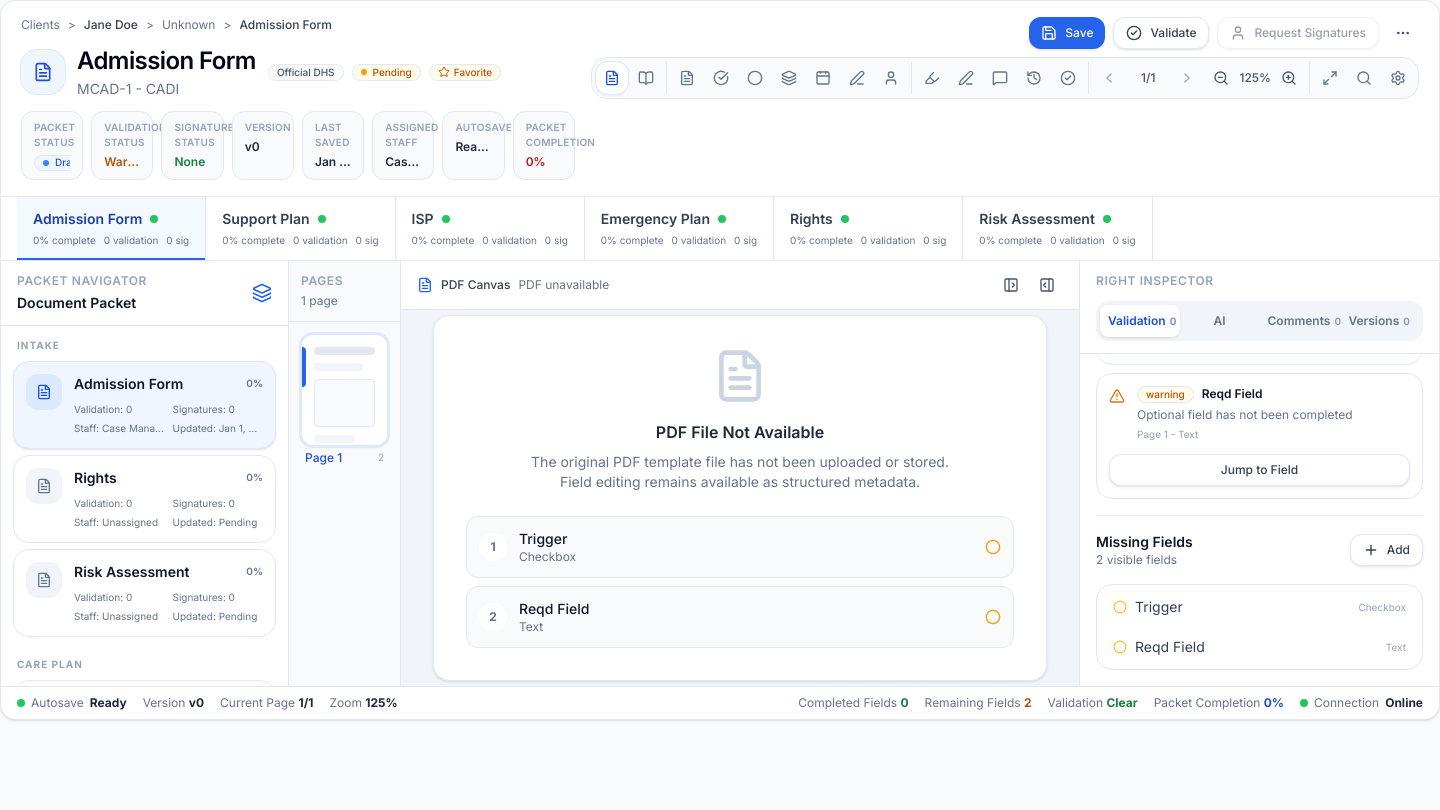
Test case: PDFEditorClient — 4c.3c.2: real-time visibility and requiredness › updates the required marker immediately when evaluation reports a conditionally-required transition
(page scrolled)
Expected: the text "Trigger" below "PDF File Not Available" is shown, [519, 530, 567, 547]
Click the text "Trigger" below "visible field" at x=1159, y=606, box [1135, 598, 1183, 615]
(page scrolled)
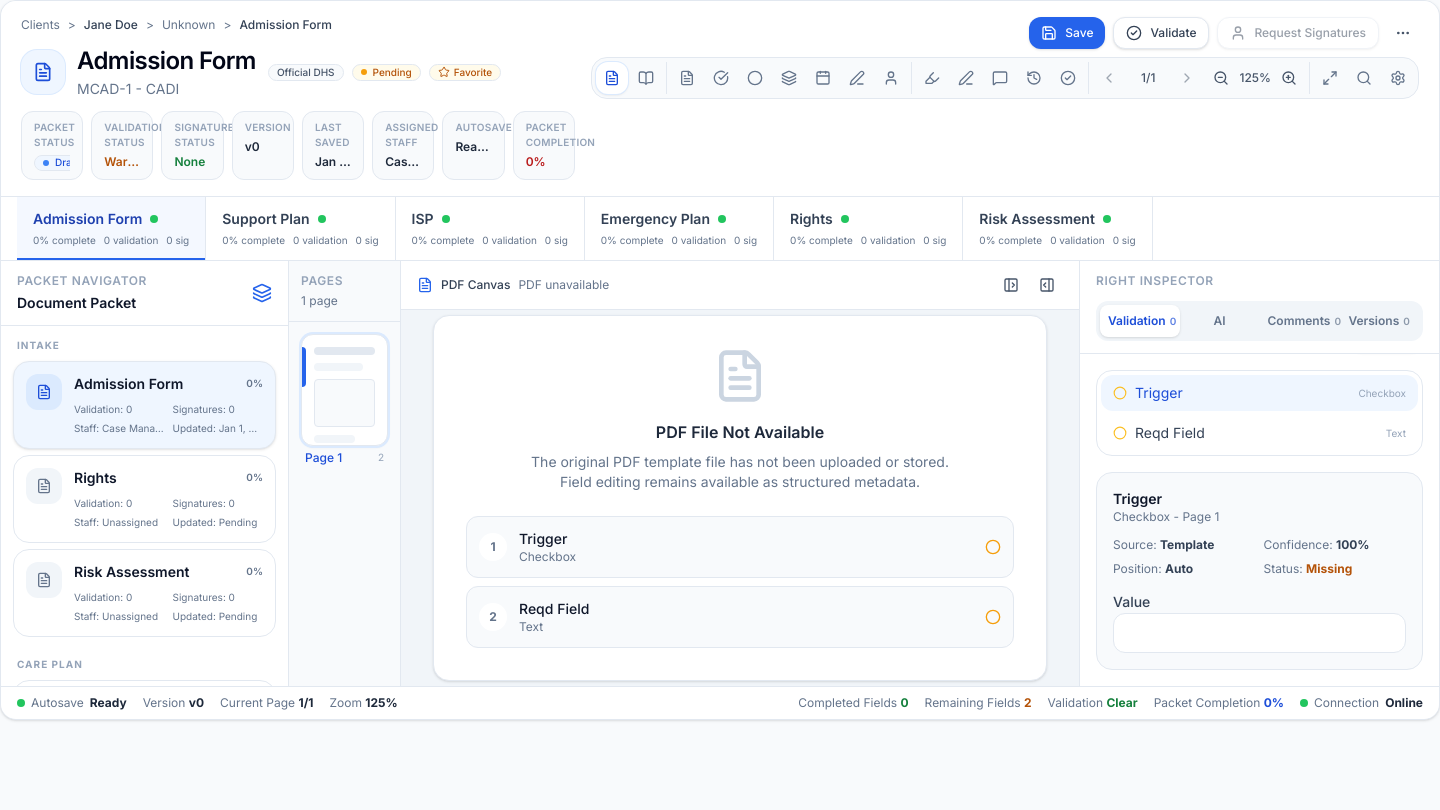
Type "true" into the field labelled "Value" at x=1260, y=633, box [1113, 613, 1406, 653]
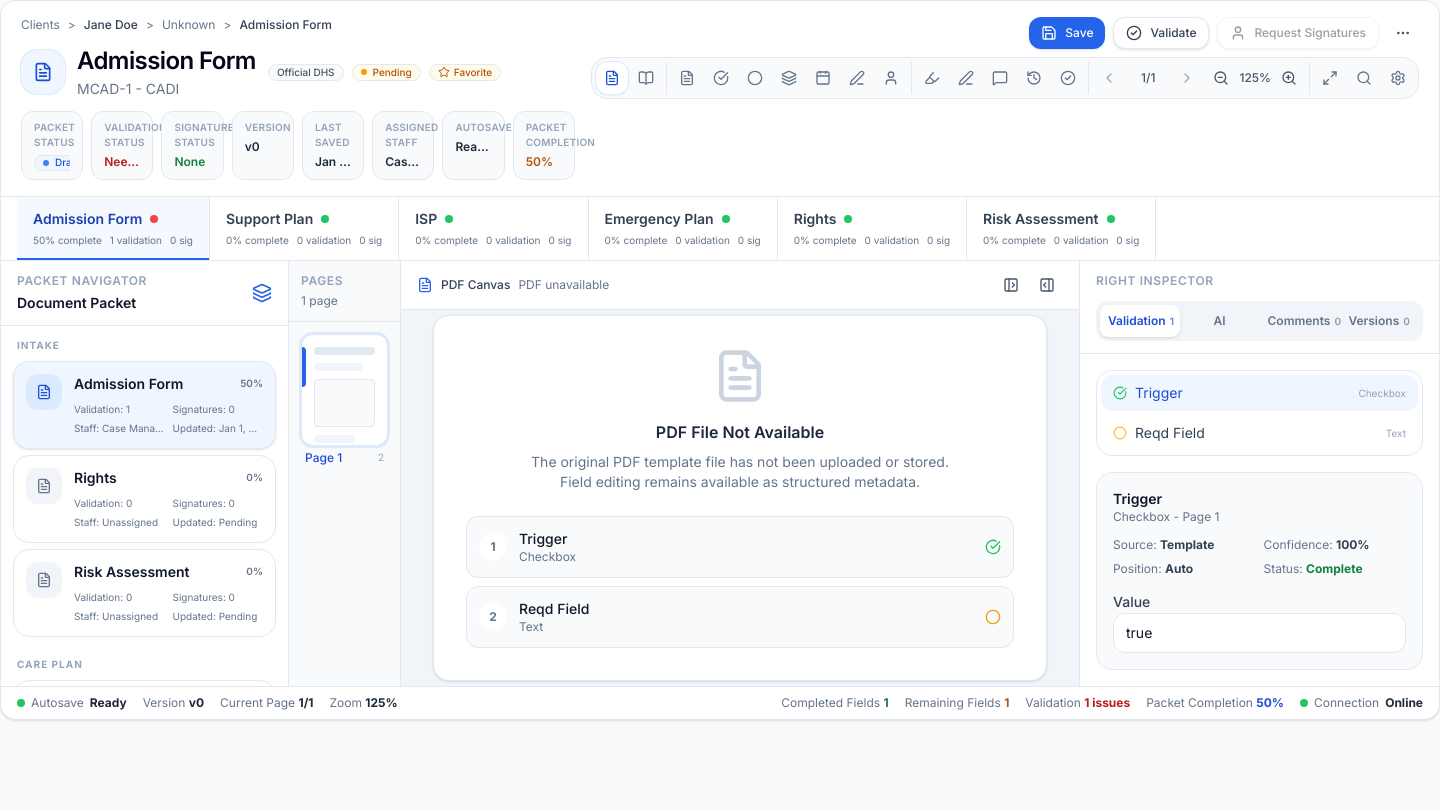
Click the text "Reqd Field" below "Right Inspector" at x=1170, y=432, box [1135, 424, 1205, 441]
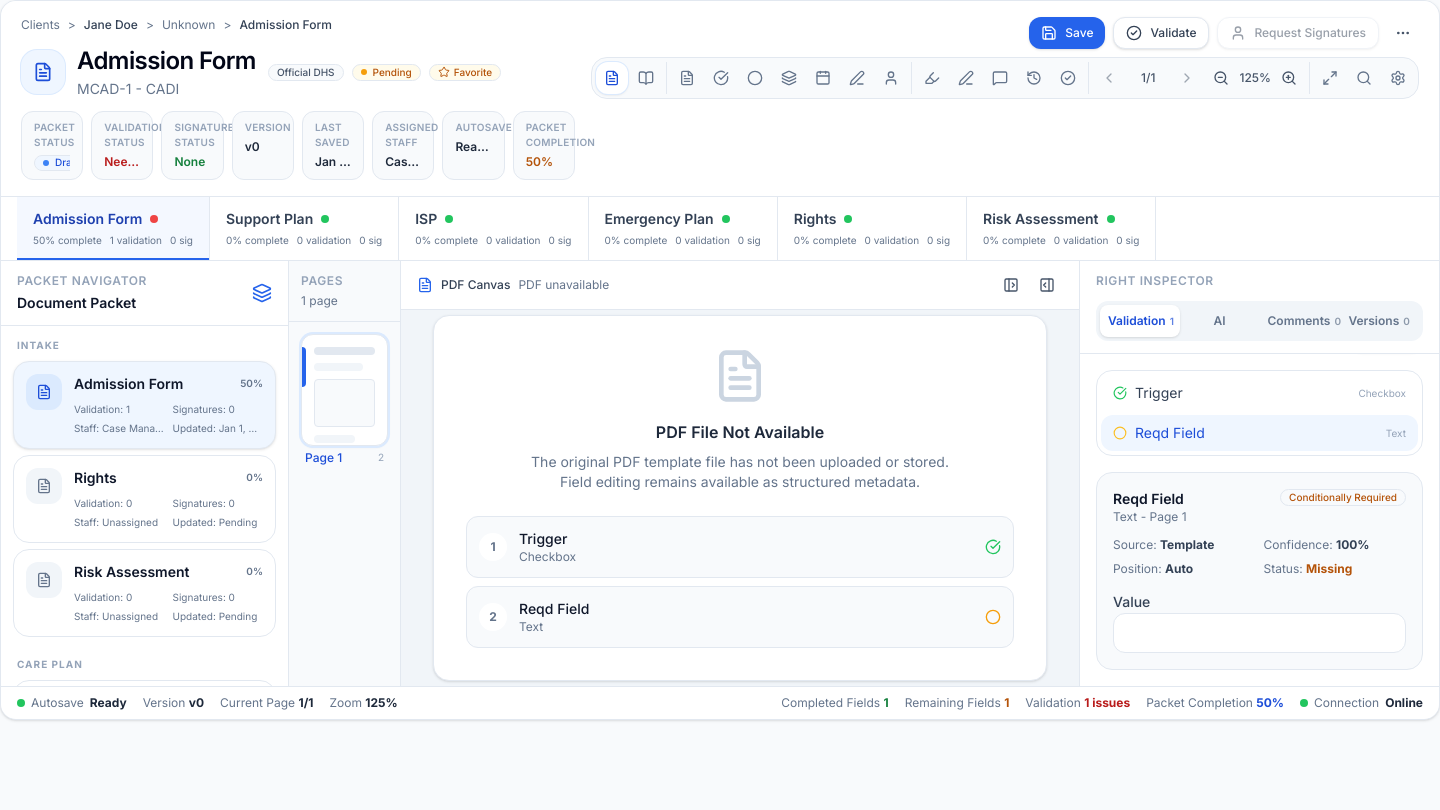
Expected: the field labelled "Value" is shown, [1113, 613, 1406, 653]
Expected: the text labelled "Conditionally Required" is shown, [1280, 489, 1406, 506]
